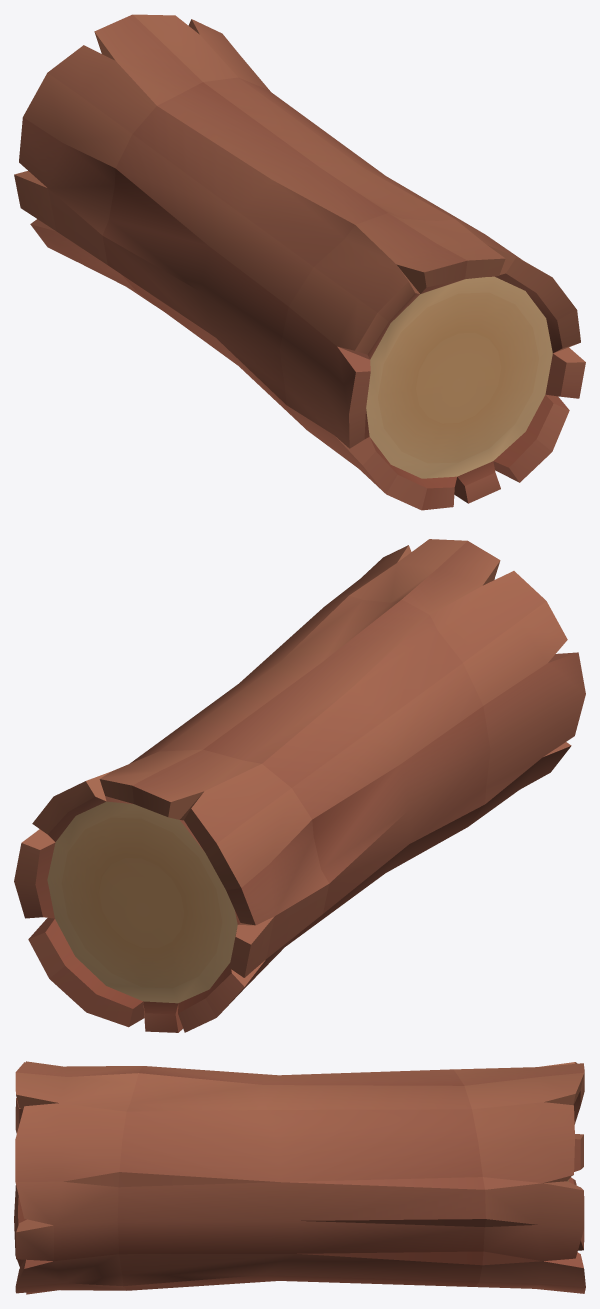
File: Wood_Log_B.glb
3 renders of one model, top to bottom at view 1: azimuth 30°, elevation 25°; view 2: azimuth 150°, elevation 25°; view 3: azimuth 270°, elevation 25°, orthographic. The views are drawn at different scales.
Visible parts, largest first — view 1: Wood_Log_B; view 2: Wood_Log_B; view 3: Wood_Log_B.
Part boxes in pixels (box(x1,y1,x2,y2)): Wood_Log_B: box(14, 14, 585, 510); Wood_Log_B: box(14, 539, 585, 1032); Wood_Log_B: box(14, 1061, 585, 1294).
Size of the model in its own units: 0.549 by 0.5506 by 1.35.
Materials: 1 (1 with a texture image).
